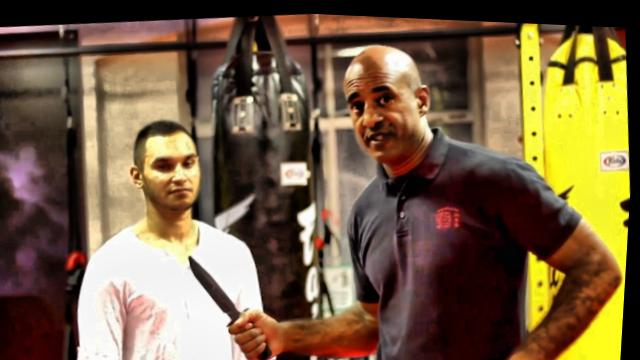knife: (183, 242, 287, 360)
